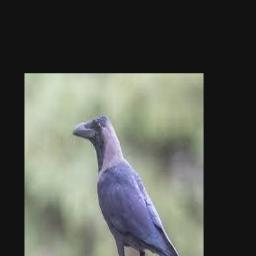Crow: (73, 115, 199, 256)
